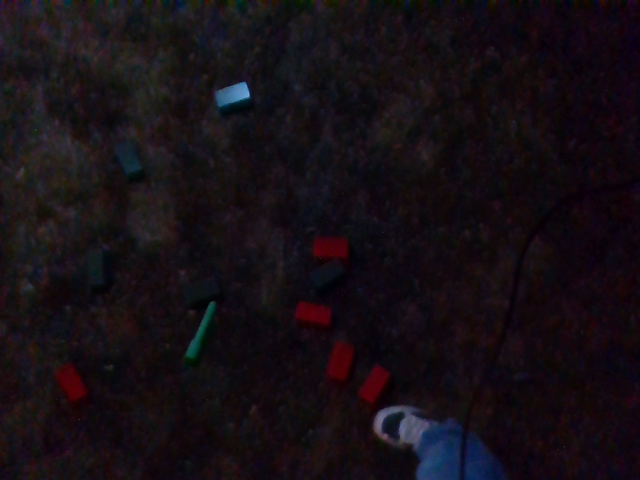Probe: (181, 294, 220, 361)
